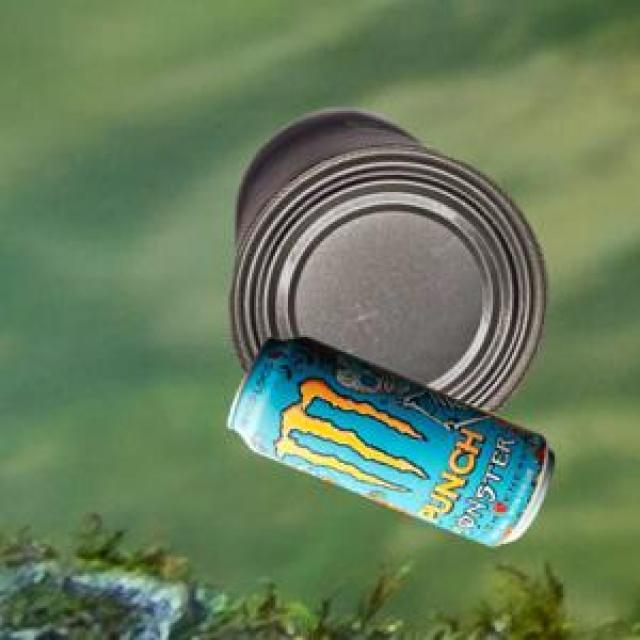Can: (227, 106, 545, 413), (225, 334, 551, 543)
